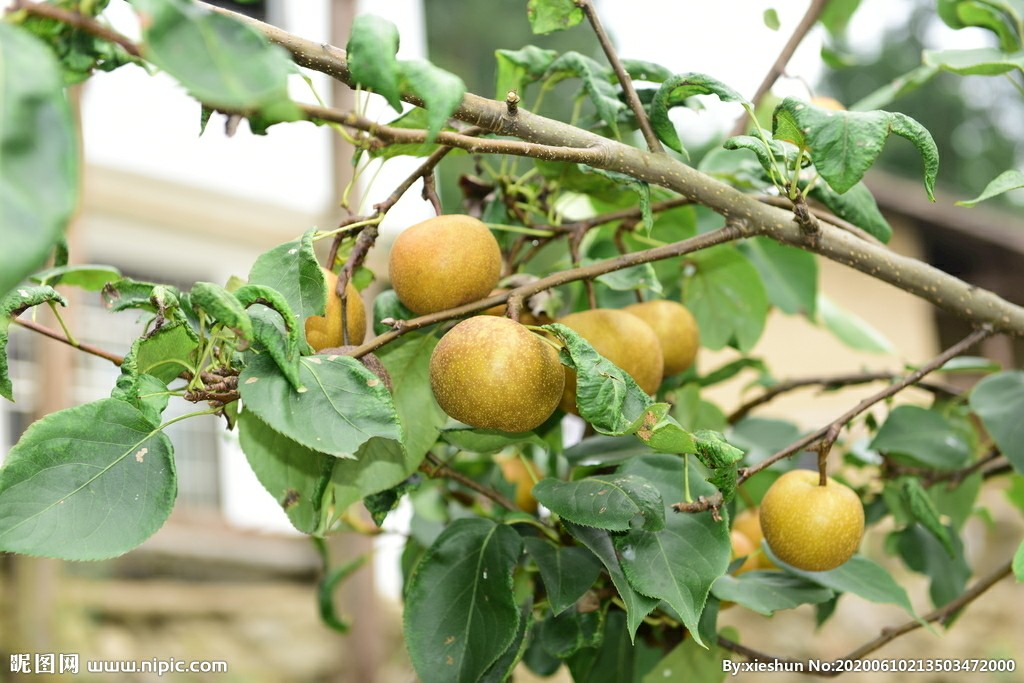pear: (429, 315, 565, 434), (386, 215, 503, 316), (758, 466, 868, 572), (549, 309, 663, 410), (617, 297, 704, 380)
